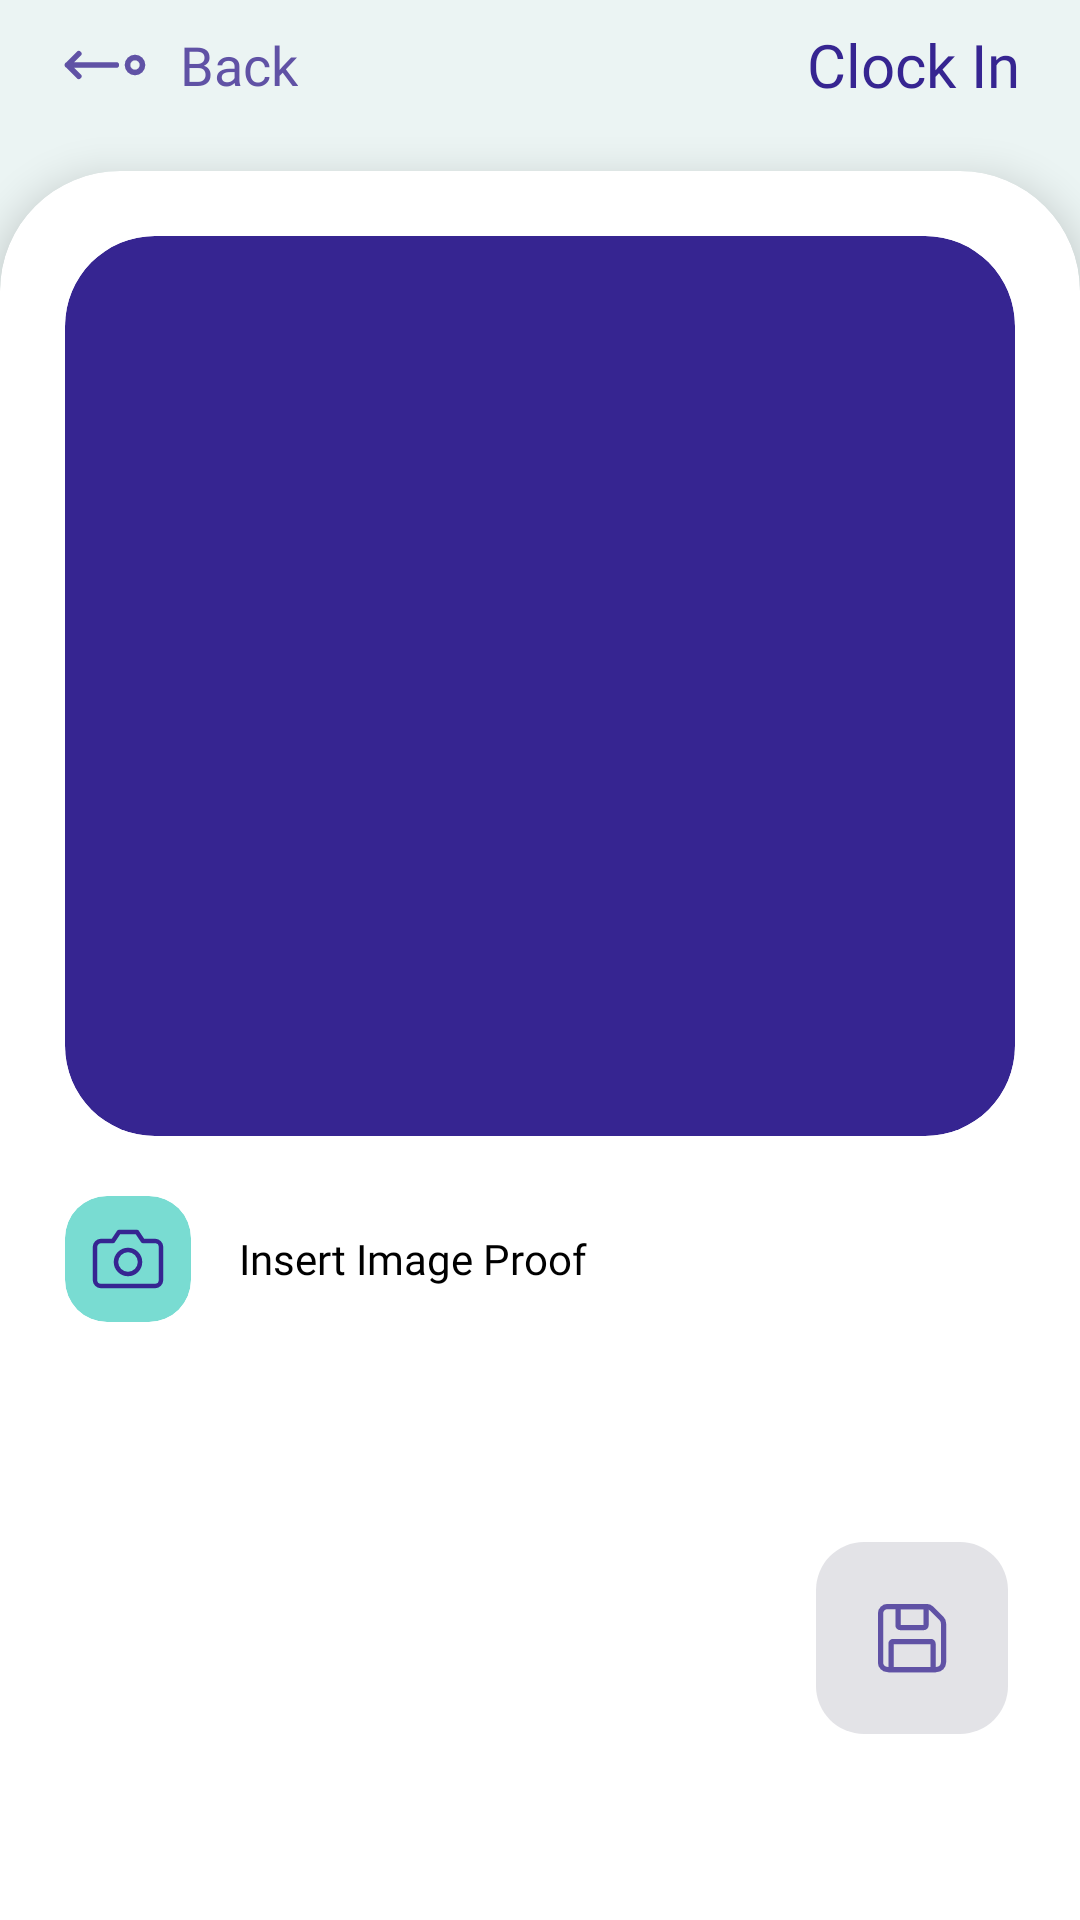

Icons on this 1080×1920 Android screen, each with the point to tap as [x,y]:
camera: [128,1259]
dot arrow left: [105,65]
floppy disk: [912,1638]
